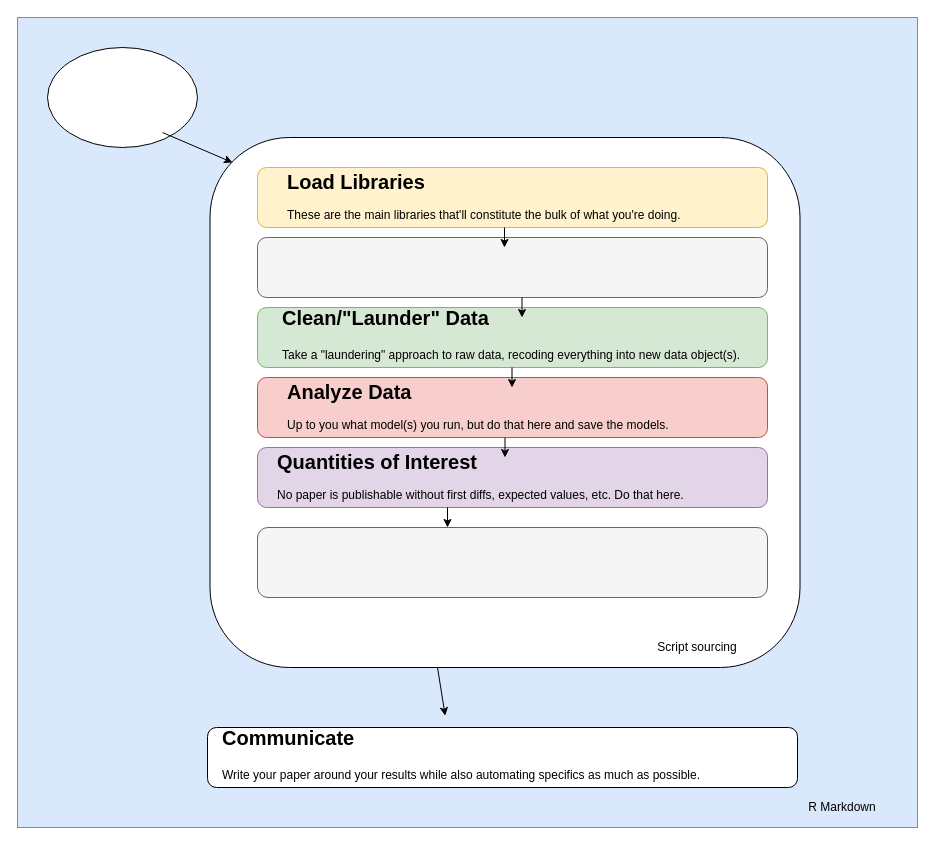
Some shapes in this 935 by 845 pixel diagram are drawn without their labels. Each missing label, with the box of its shape:
Create Graphs/Tables Create objects (graphs/tables) to communicate results: (256, 526, 768, 598)
Load Data Load/grab all data sources you'll be using in your project.: (256, 236, 768, 298)
Setup: (46, 46, 198, 148)
